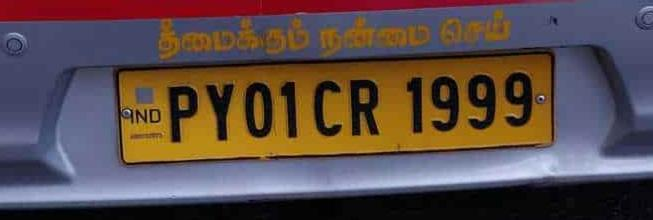0: (240, 82, 277, 144)
1: (275, 75, 307, 146), (399, 69, 427, 145)
9: (461, 63, 500, 140), (501, 62, 536, 133), (431, 61, 462, 137)
C: (307, 67, 347, 142)
P: (165, 77, 203, 148)
R: (351, 75, 386, 144)
Y: (203, 77, 239, 151)
